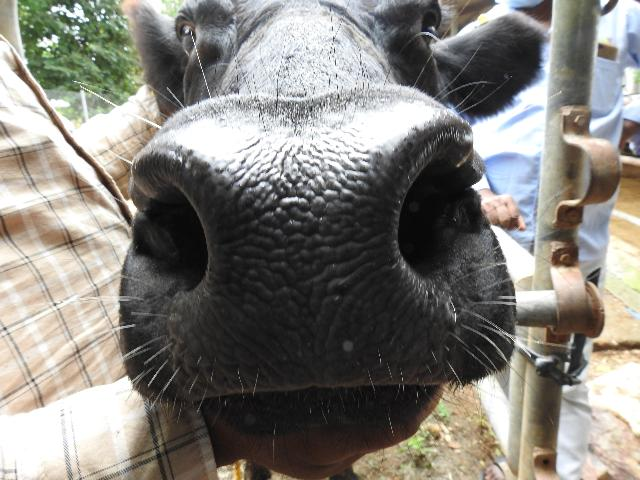Muzzle: (146, 127, 442, 390)
